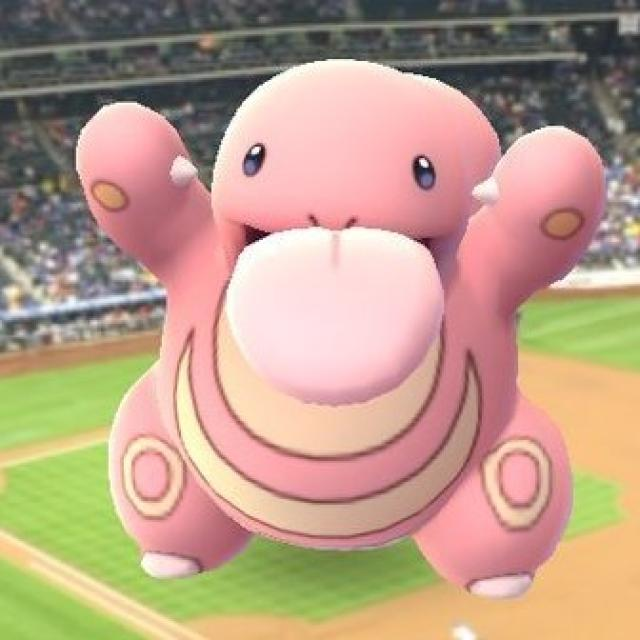Lickitung: (73, 52, 610, 615)
